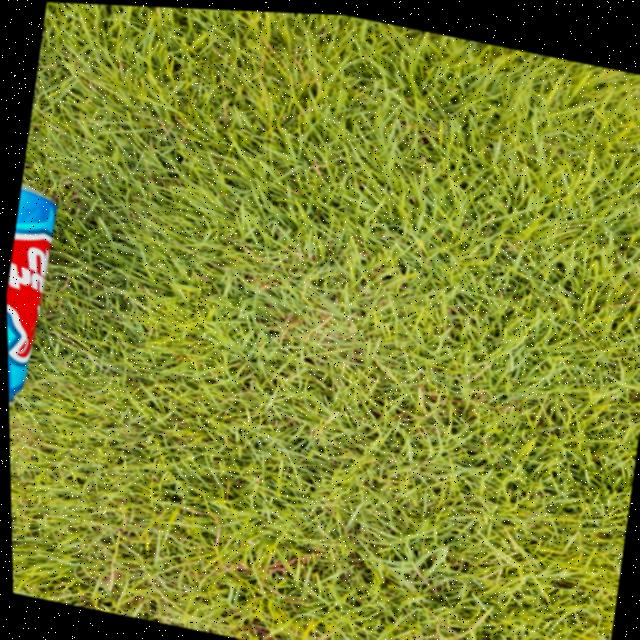Thums Up: (3, 189, 73, 416)
